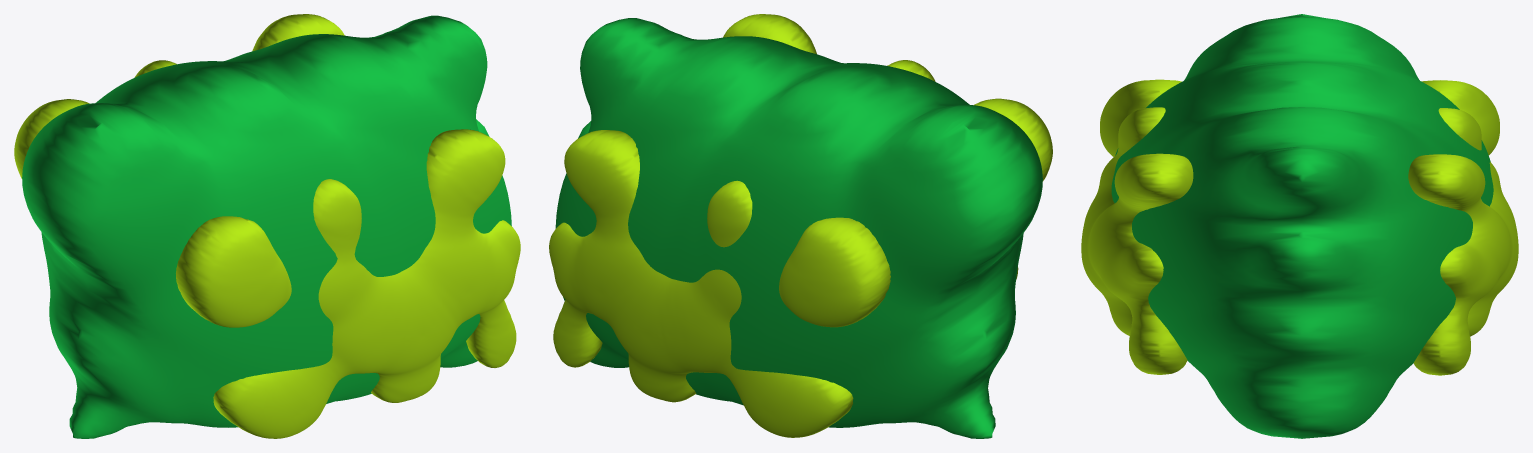
The model's file is Mucus3.fbx.
The picture shows the model from 3 angles, left to right: view 1: azimuth 30°, elevation 25°; view 2: azimuth 150°, elevation 25°; view 3: azimuth 270°, elevation 25°; orthographic projection. The views are drawn at different scales.
Visible parts, largest first — view 1: node_id55, node_id56, node_id57; view 2: node_id55, node_id57, node_id56; view 3: node_id55, node_id56, node_id57.
Part boxes in pixels (bbox=[...]): node_id55: bbox=[22, 15, 511, 438]; node_id56: bbox=[176, 129, 520, 438]; node_id57: bbox=[14, 14, 344, 178]; node_id55: bbox=[555, 18, 1042, 438]; node_id57: bbox=[549, 130, 890, 437]; node_id56: bbox=[723, 14, 1052, 279]; node_id55: bbox=[1111, 14, 1493, 438]; node_id56: bbox=[1081, 79, 1193, 374]; node_id57: bbox=[1408, 80, 1518, 375].
Bounding box in the file's own units: 1.2 × 0.8688 × 1.2.
